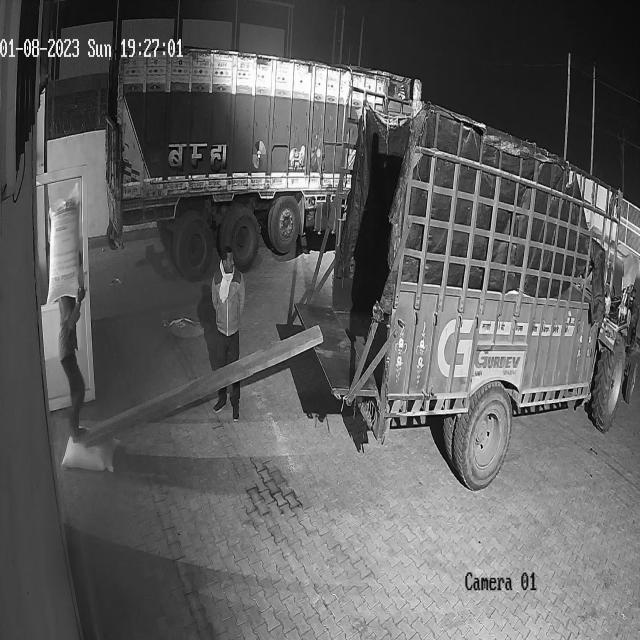sack: (46, 184, 80, 305), (63, 429, 119, 471)
